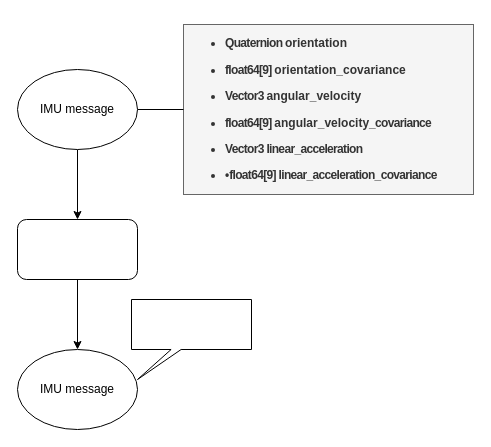
This 491x447 diagram has some shape labels left out. The shapes that lost their labels are listed below. From the top down, each one's centre as x and y in pixels, then its label:
At [77,249]: "imu_corrector".
At [191,339]: "corrected IMU data".
